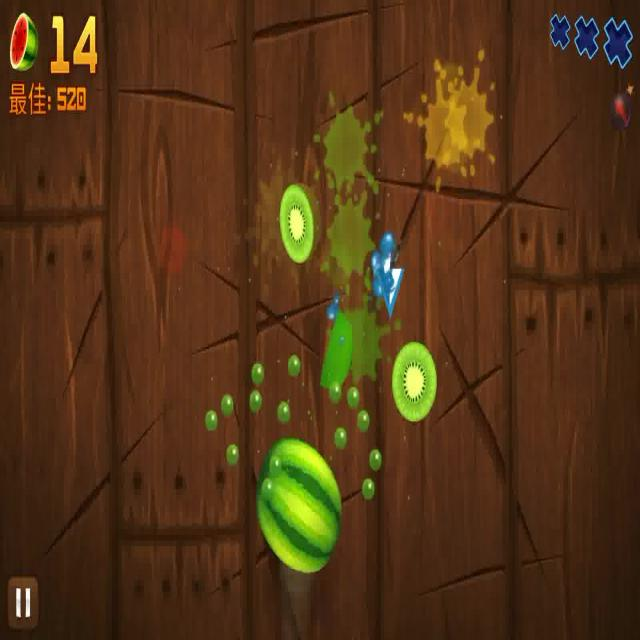fruit: (257, 430, 343, 572), (390, 339, 439, 419), (278, 180, 322, 265)
